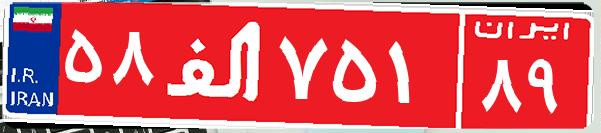1: (385, 28, 445, 110)
5: (330, 28, 385, 110), (57, 26, 110, 107)
7: (273, 28, 330, 110)
8: (475, 38, 525, 113), (110, 28, 158, 105)
9: (525, 38, 570, 115)
الف: (158, 15, 273, 115)
